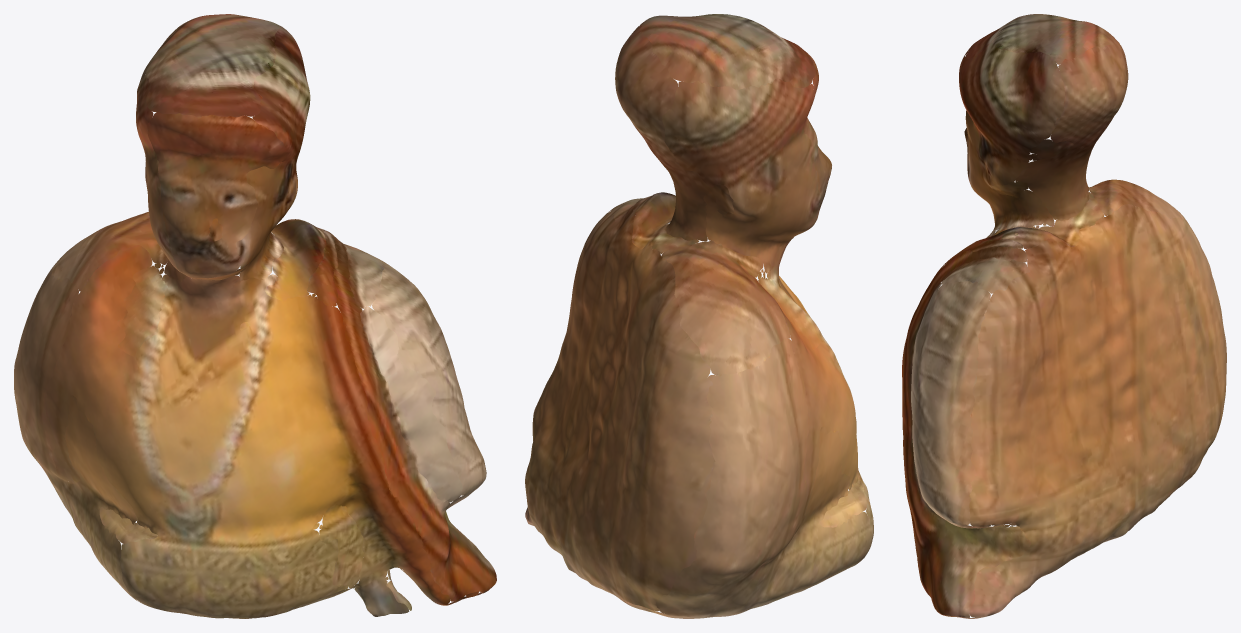
Rendered from calcutta.glb.
3 renders of one model, left to right at view 1: azimuth 30°, elevation 25°; view 2: azimuth 150°, elevation 25°; view 3: azimuth 270°, elevation 25°, orthographic. The views are drawn at different scales.
Parts seen in each view (by area): view 1: calcutta_Figurehead; view 2: calcutta_Figurehead; view 3: calcutta_Figurehead.
Boxes of the visible parts, x1,y1,x2,y2 form: calcutta_Figurehead: (14,14,496,618); calcutta_Figurehead: (525,14,873,618); calcutta_Figurehead: (902,14,1226,618).
Bounding box in the file's own units: 2.62 × 4 × 2.33.
1 material, 1 textured.
